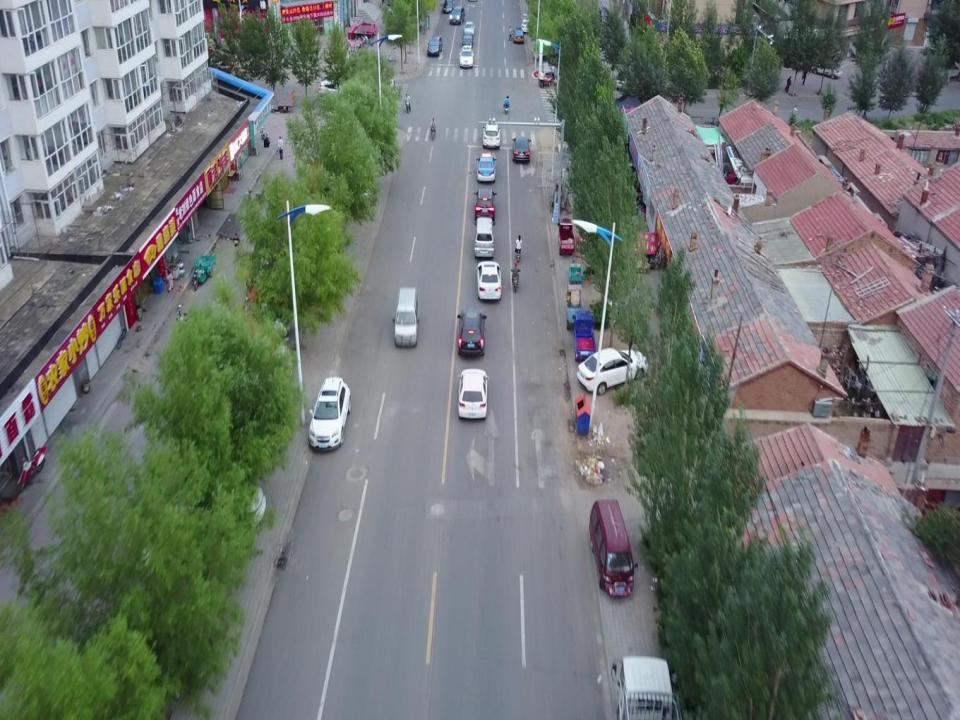car: (577, 346, 649, 395), (307, 375, 351, 452), (458, 368, 490, 420), (457, 307, 486, 355), (475, 260, 503, 301), (806, 52, 843, 79), (318, 79, 354, 101), (474, 188, 497, 218), (476, 152, 497, 182), (512, 135, 532, 163), (482, 122, 501, 150), (458, 45, 474, 68), (427, 35, 443, 56), (449, 5, 465, 24), (461, 31, 474, 49), (513, 26, 524, 44), (520, 18, 532, 33), (442, 0, 454, 14), (464, 21, 475, 36)
truck: (610, 654, 682, 720), (572, 310, 597, 362)
van: (588, 498, 638, 597), (392, 286, 420, 347), (474, 216, 494, 260)
